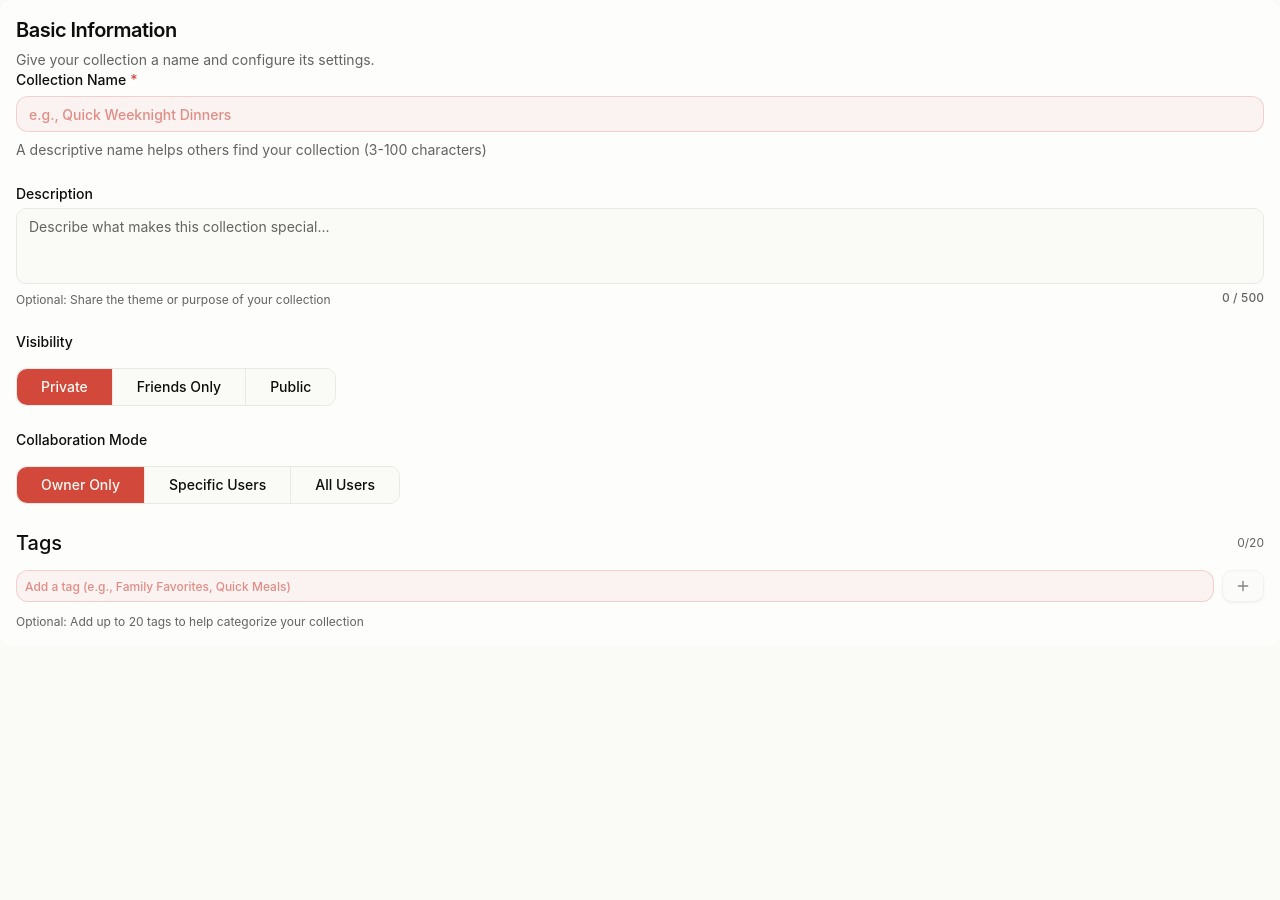
it: BasicInfoSection › Tags TagInput › should allow adding multiple tags
The width and height of the screenshot is (1280, 900).
In the field with placeholder "Add a tag (e.g., Family Favorites, Quick Meals)": (615, 586) [16,570,1214,602], type "vegetarian"
Then press Enter
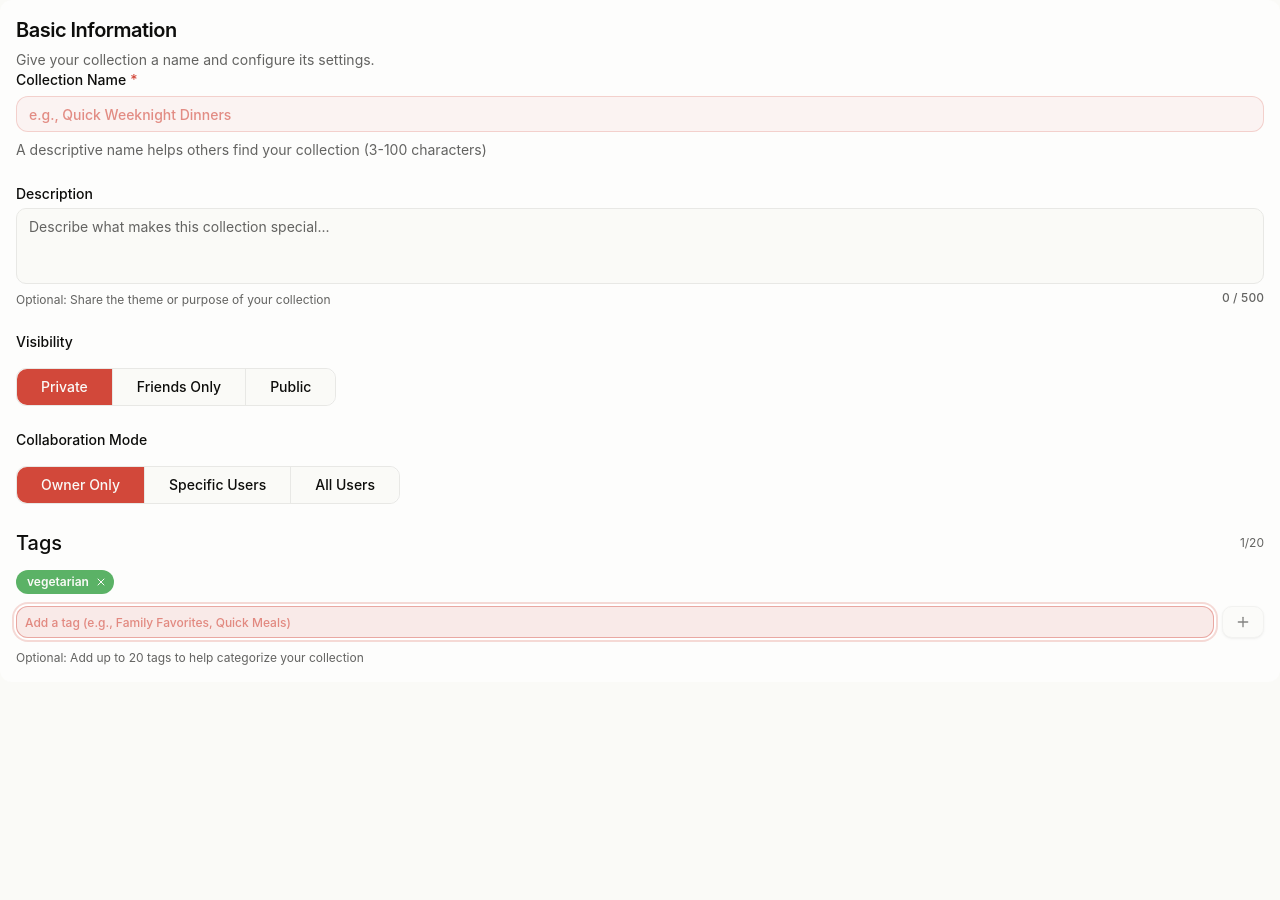
In the field with placeholder "Add a tag (e.g., Family Favorites, Quick Meals)": (615, 622) [16,606,1214,638], type "quick"
Then press Enter
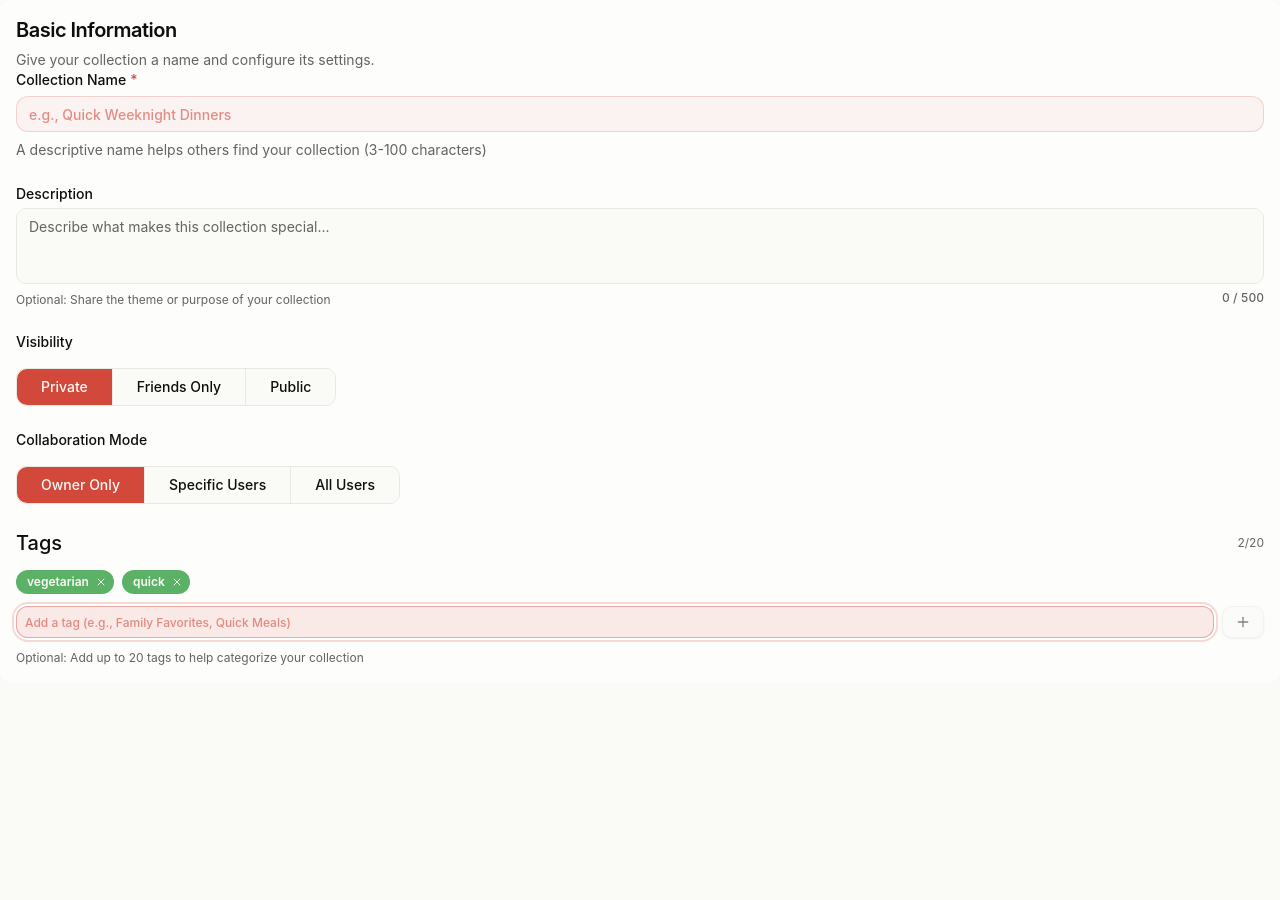
In the field with placeholder "Add a tag (e.g., Family Favorites, Quick Meals)": (615, 622) [16,606,1214,638], type "healthy"
Then press Enter
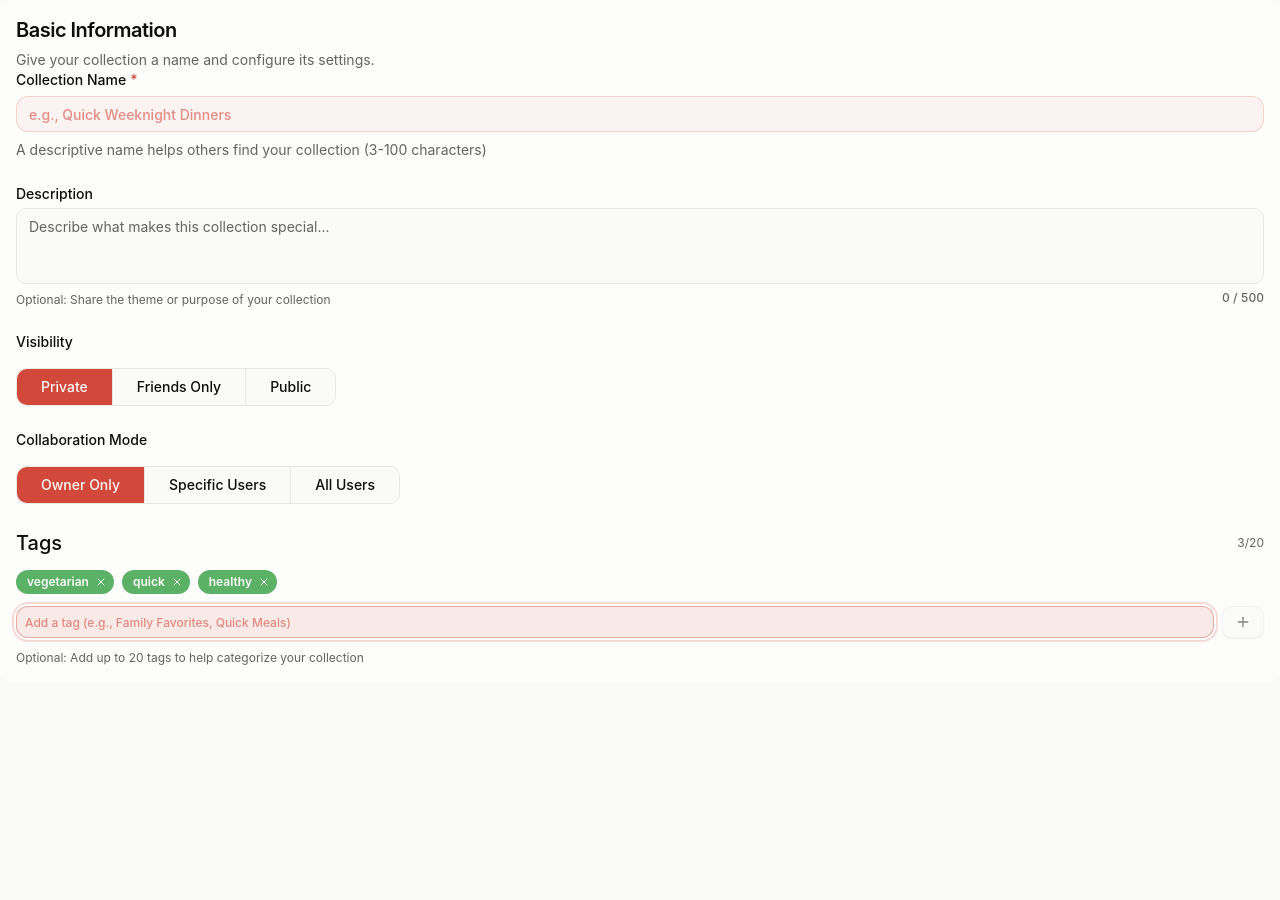
Expected: the text "vegetarian" is shown, [16,570,114,594]
Expected: the text "quick" is shown, [122,570,190,594]
Expected: the text "healthy" is shown, [198,570,277,594]
